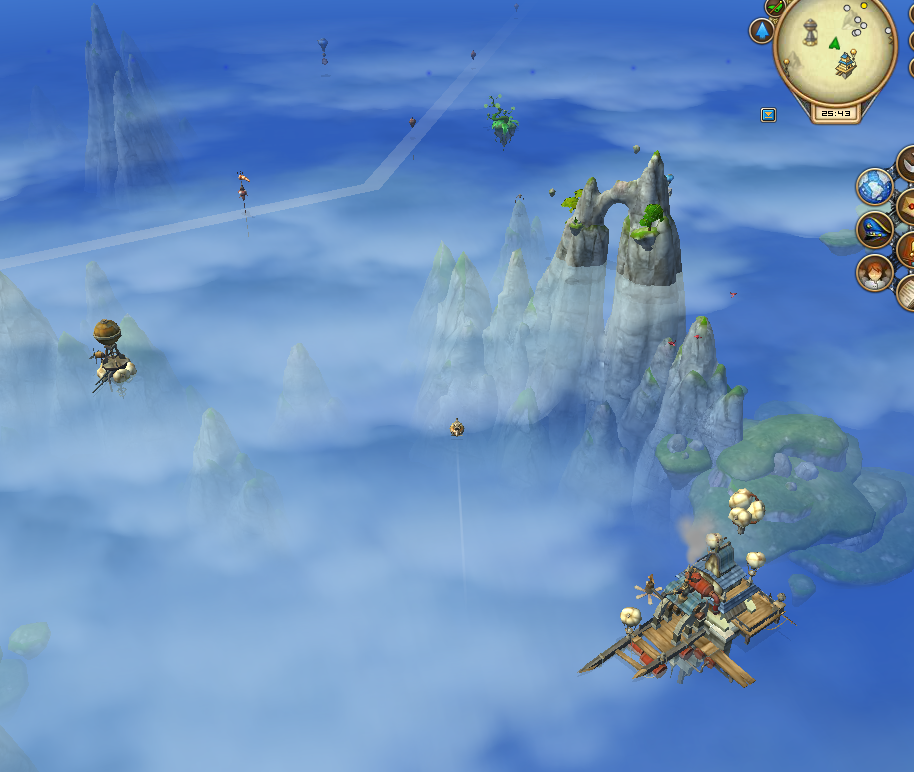dandelion-full: (477, 87, 527, 150)
